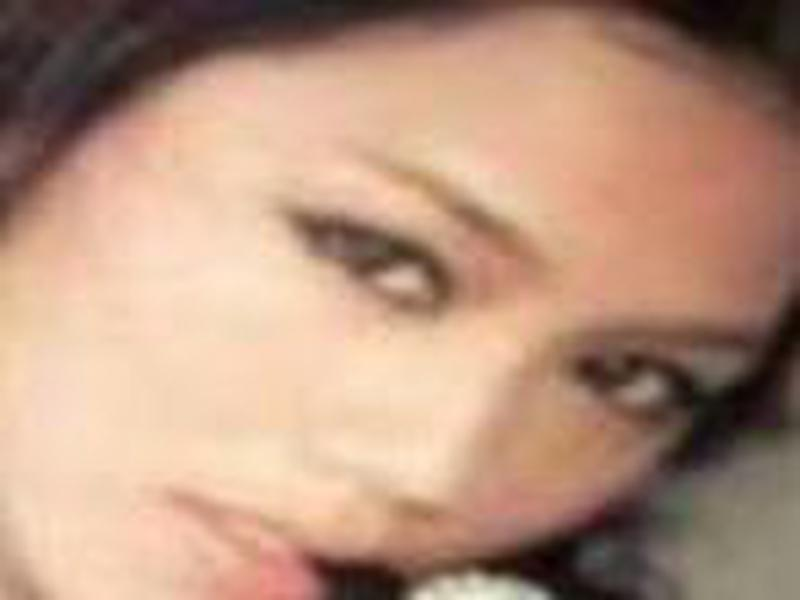without_mask: (20, 18, 793, 600)
